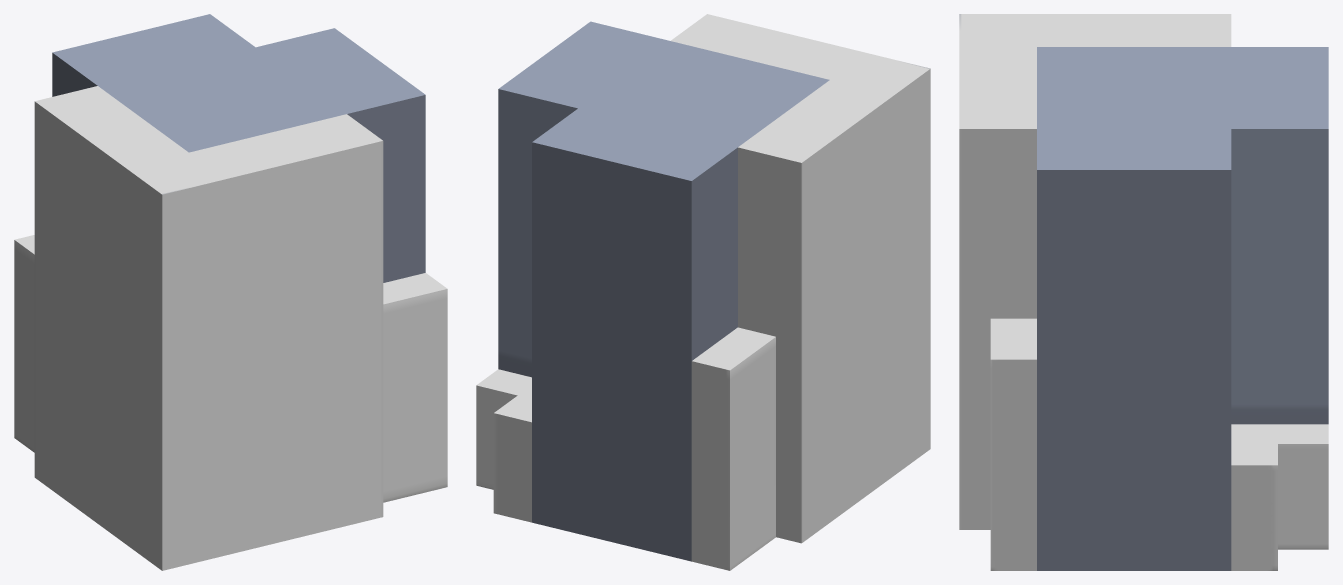
The model's file is office_pack_demoRoom_corner_visible.fbx.
3 views of the same model, side by side, from view 1: azimuth 30°, elevation 25°; view 2: azimuth 150°, elevation 25°; view 3: azimuth 270°, elevation 25° (orthographic). The views are drawn at different scales.
Visible parts, largest first — view 1: office_pack_demoRoom_corner_visible; view 2: office_pack_demoRoom_corner_visible; view 3: office_pack_demoRoom_corner_visible.
Boxes of the visible parts, bbox=[...] form: office_pack_demoRoom_corner_visible: bbox=[14, 14, 447, 570]; office_pack_demoRoom_corner_visible: bbox=[476, 14, 930, 570]; office_pack_demoRoom_corner_visible: bbox=[959, 14, 1328, 570].
Size of the model in its own units: 23.75 by 28.46 by 23.75.
